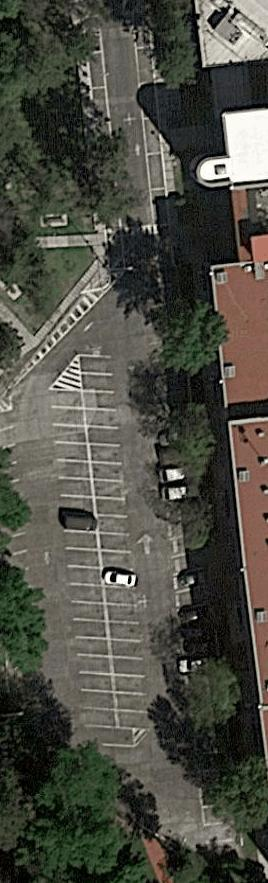parkingspot: (44, 390, 135, 747), (79, 353, 156, 732), (133, 43, 172, 229), (164, 529, 222, 615), (84, 13, 112, 126)
